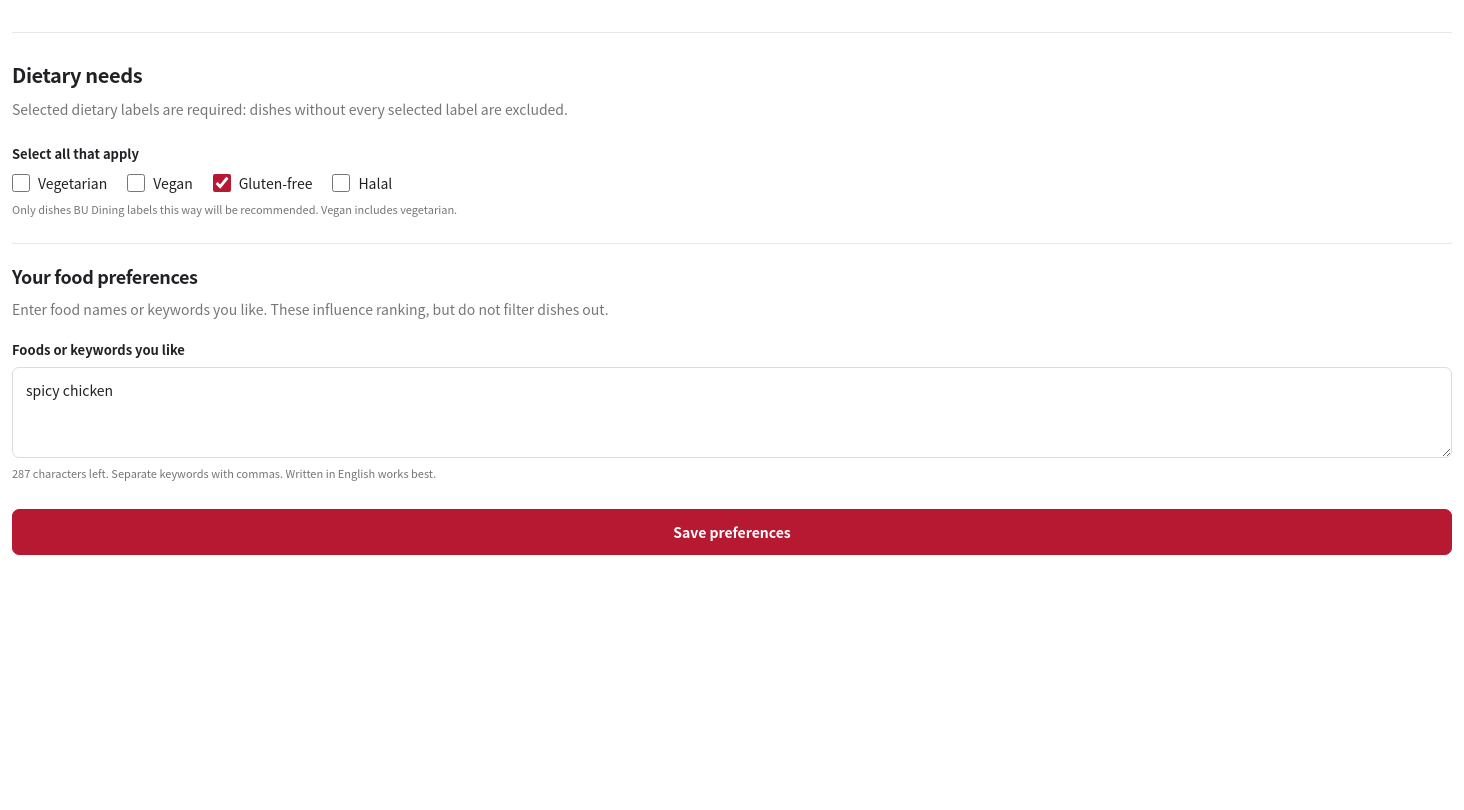
PreferencesForm › loads saved preferences and saves edits
Expected: the text box with id "likes" holds "spicy chicken", [12,367,1452,458]
Expected: the checkbox named "gluten_free" is checked, [213,174,231,192]
Click the checkbox named "vegan" at (136, 183), box [127,174,145,192]
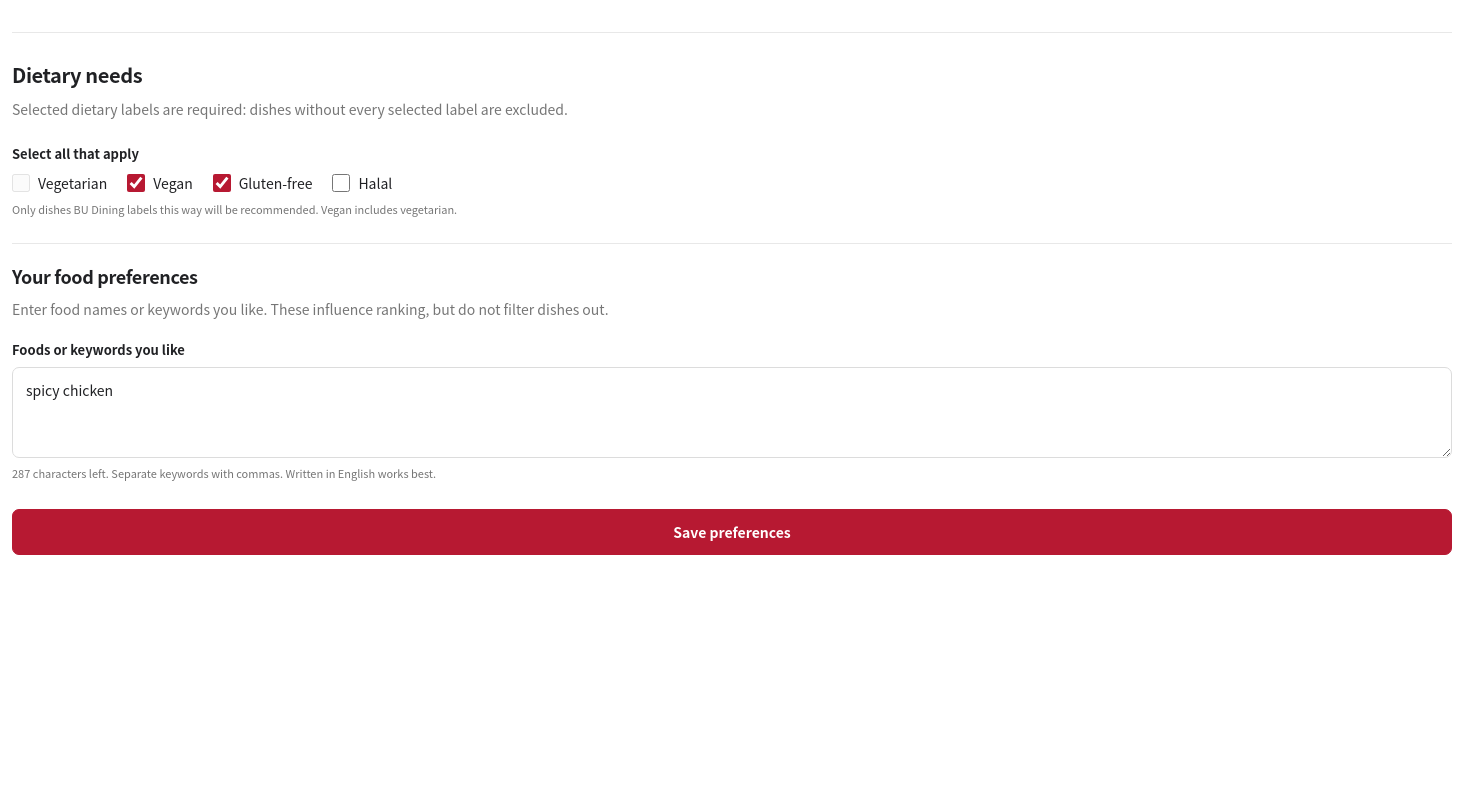
Submit the form, box [12,144,1452,555]
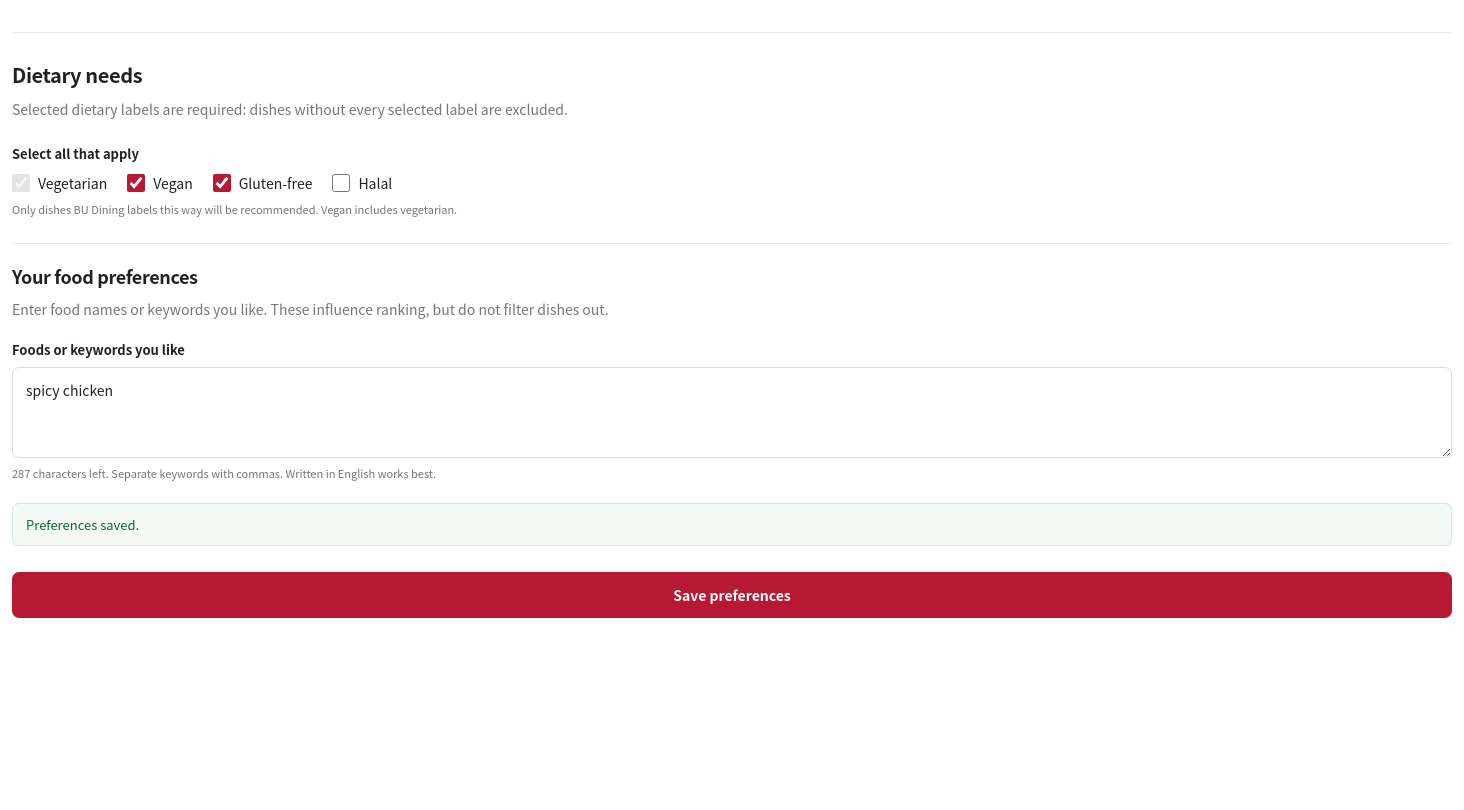
Expected: the message "Preferences saved." is shown, [12,503,1452,546]
